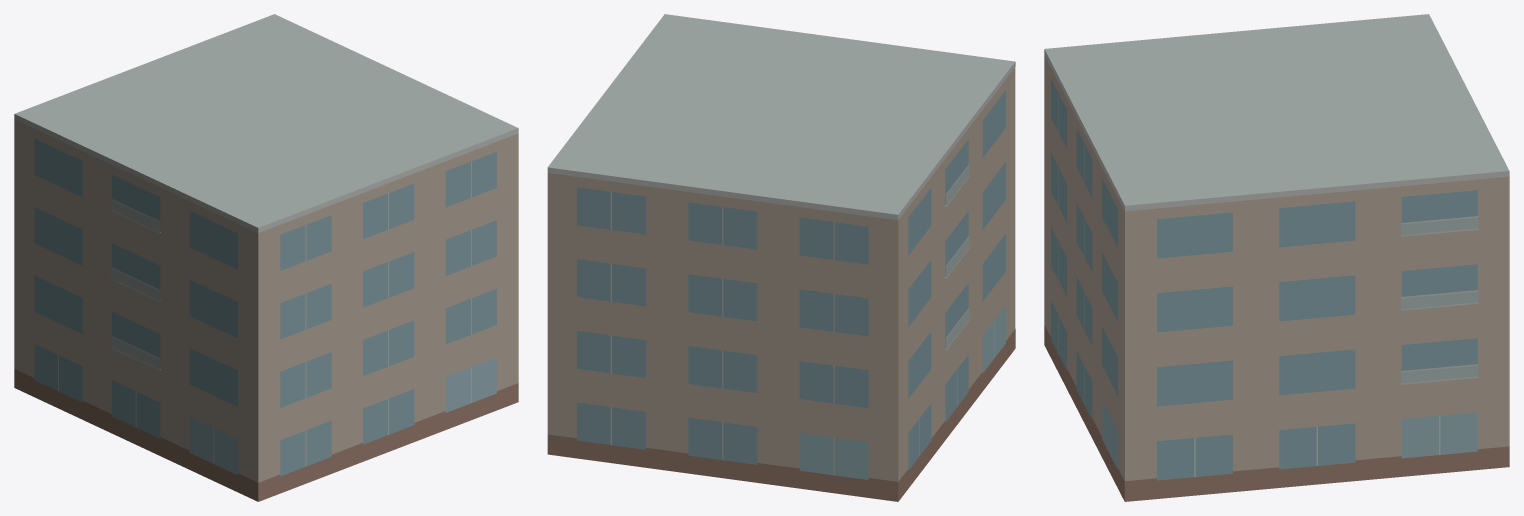
Rendered from survey-upis-32697648.glb.
3 views of the same model, side by side, from view 1: azimuth 30°, elevation 25°; view 2: azimuth 150°, elevation 25°; view 3: azimuth 270°, elevation 25° (orthographic). The views are drawn at different scales.
Visible parts, largest first — view 1: survey-upis-32697648.tmp; view 2: survey-upis-32697648.tmp; view 3: survey-upis-32697648.tmp.
Boxes of the visible parts, x1=… form: survey-upis-32697648.tmp: x1=14, y1=14, x2=518, y2=501; survey-upis-32697648.tmp: x1=547, y1=14, x2=1015, y2=501; survey-upis-32697648.tmp: x1=1044, y1=14, x2=1509, y2=501.
Size of the model in its own units: 17.79 by 12.8 by 18.23.
